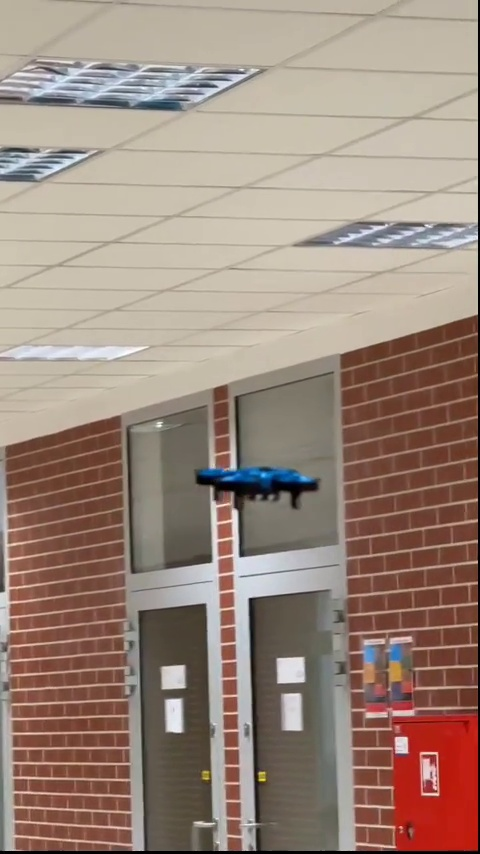drone: (192, 470, 316, 503)
